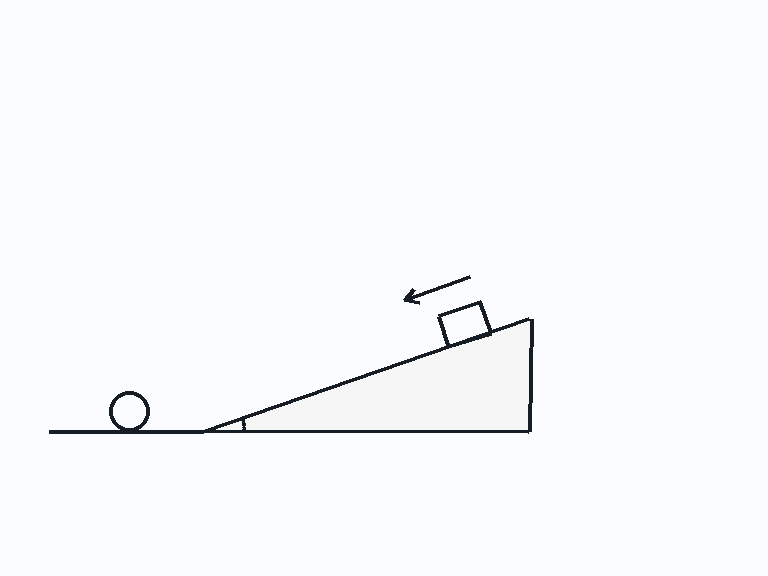ball: (107, 389, 151, 433)
block: (436, 300, 492, 349)
ramp: (202, 317, 531, 433)
